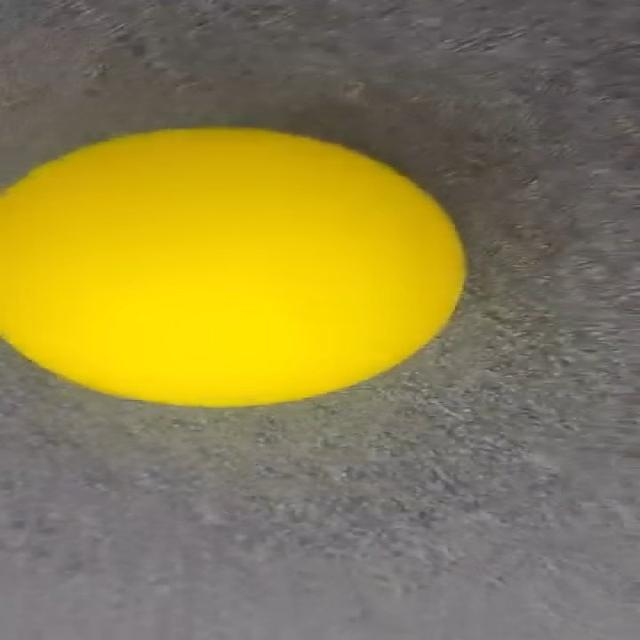Fuels: (2, 128, 462, 405)
